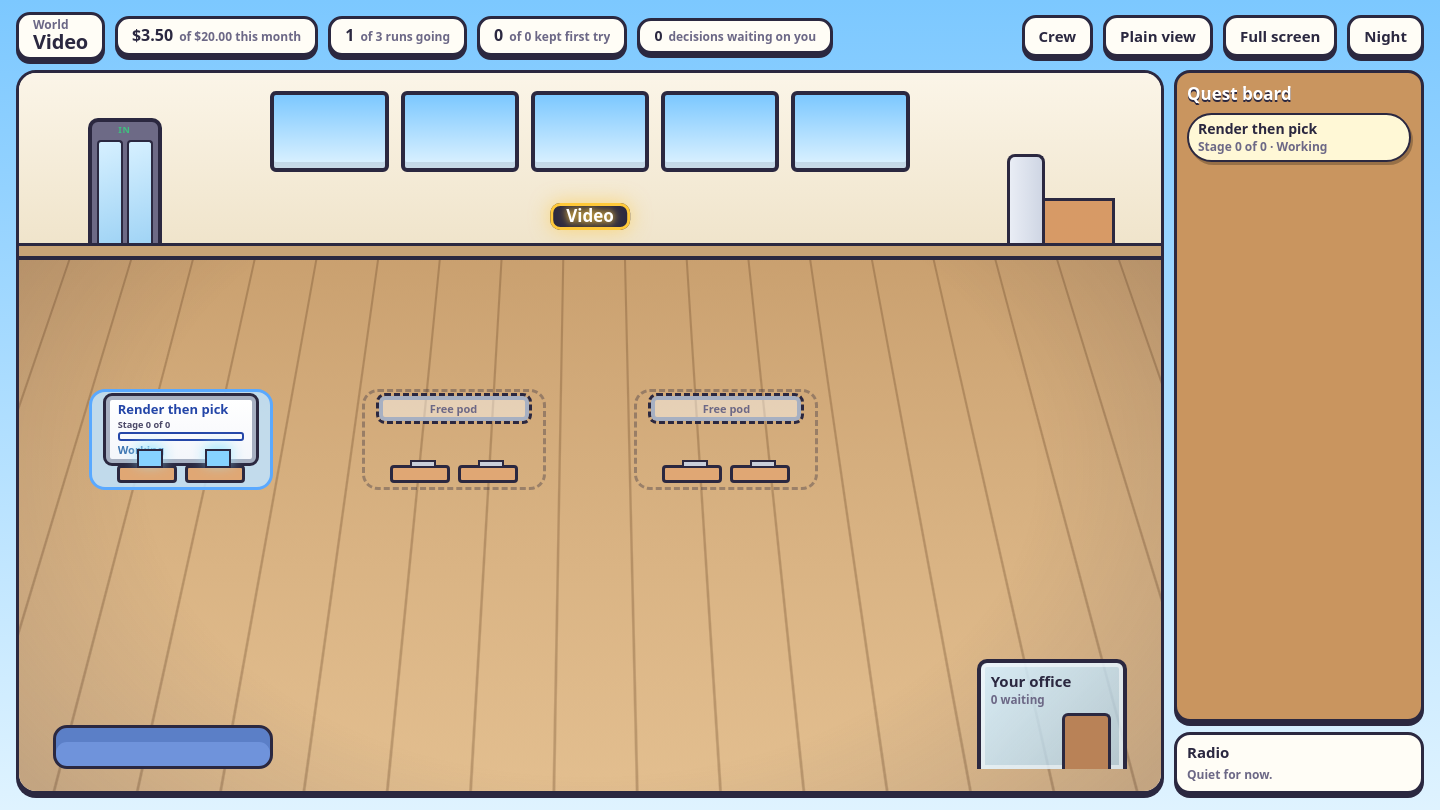
Plain view saves the setting and opens the plain overview in the sidebar shell
This screenshot has width=1440, height=810.
What coordinates should you click on to do the following:
click the button "Plain view"
I would click on:
 (1158, 36)
Its box is [1103,15,1213,57].
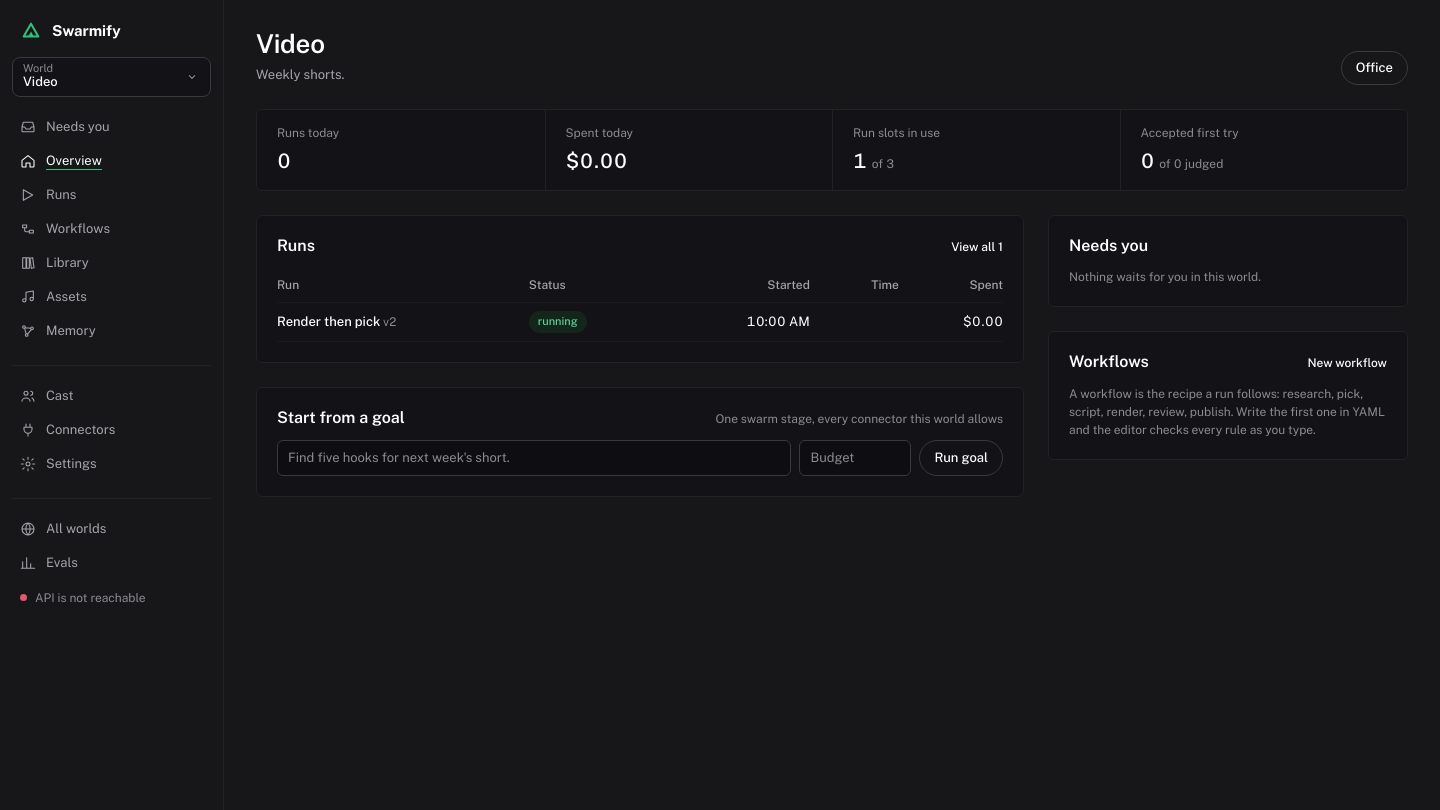
Expected: the button "Office" is shown, [1341,51,1408,85]
Expected: the navigation bar named "Main" is shown, [0,0,224,809]
